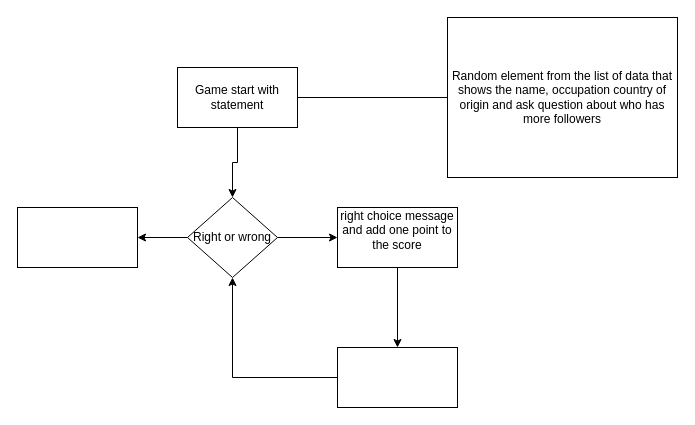
Image size: 695x425. Some labels were removed from this diagram. Each missing label, with the box of its shape:
game over and show score: (16, 206, 138, 268)
new statement: (336, 346, 458, 408)
